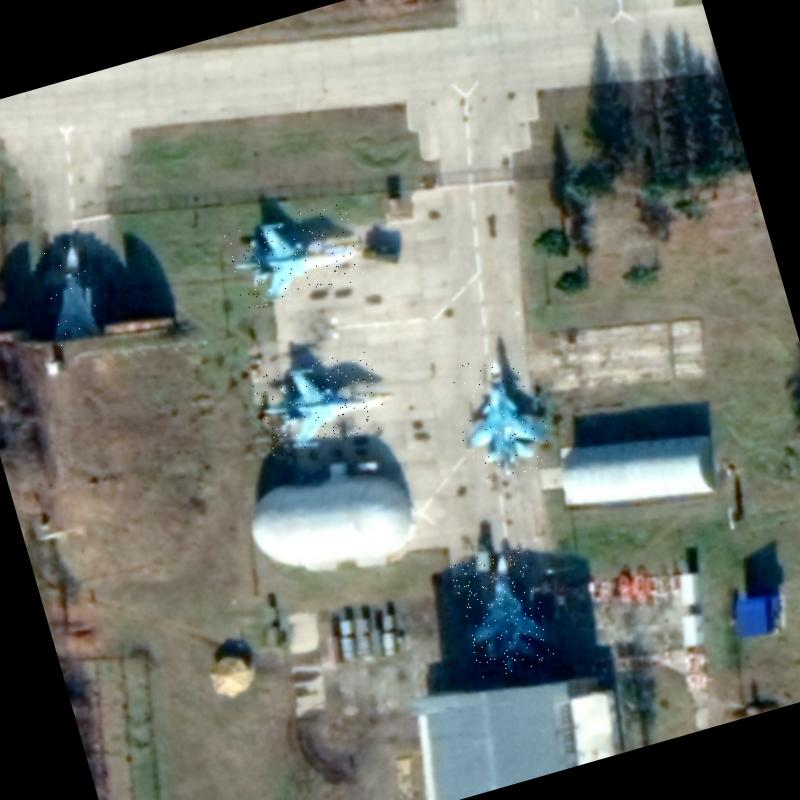A19: (222, 198, 368, 312), (442, 347, 558, 486), (251, 345, 390, 459), (449, 544, 558, 682)
A20: (25, 241, 106, 351)
